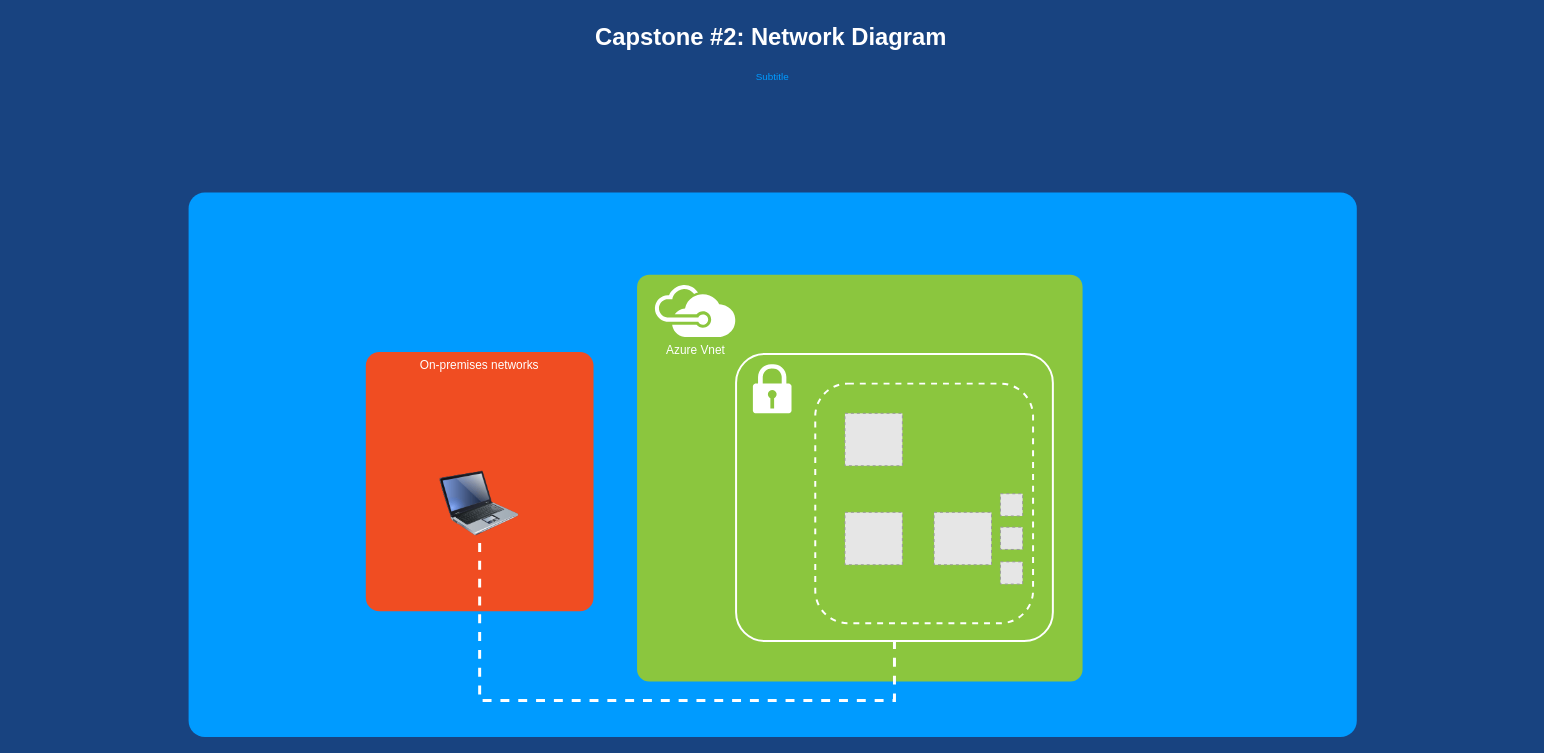
Some shapes in this 1544 by 753 pixel diagram are drawn without their labels. Grey dashed boxes stand in for pictures. Here are the shapes that lost their labels. From the top down, the box of each, then its label:
(440, 463, 519, 543): Personal Workstation
(814, 382, 1034, 624): Availability set
